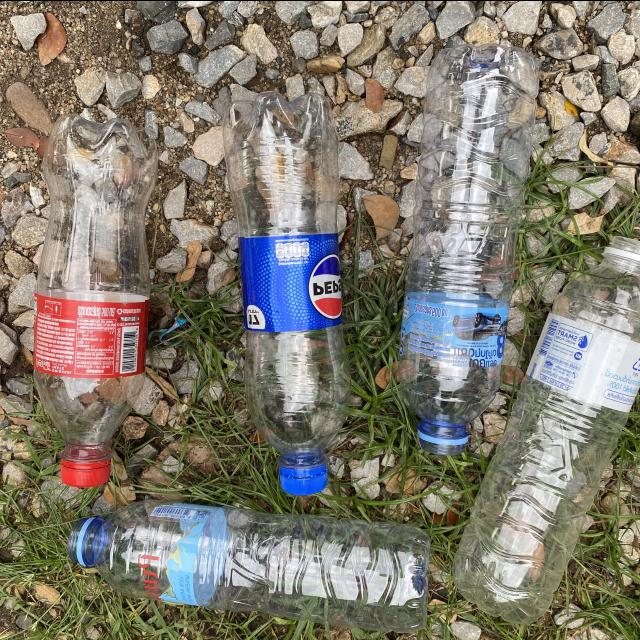plastik: (453, 236, 640, 623), (399, 43, 539, 455), (223, 91, 350, 494), (68, 499, 430, 632), (34, 114, 158, 486)
